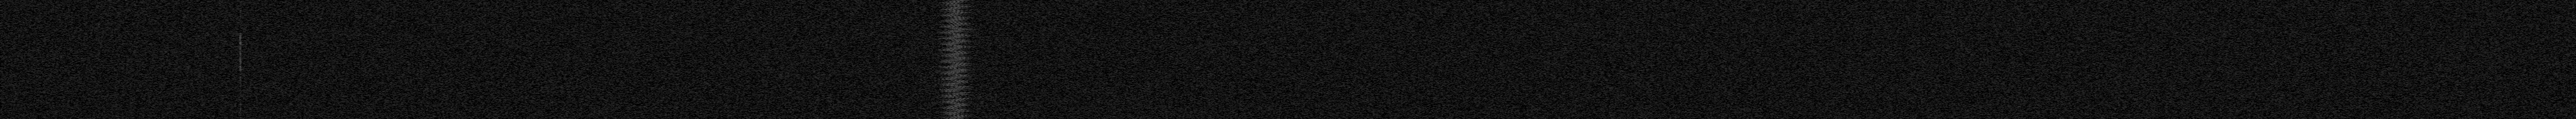wv_lsb: (238, 33, 241, 73), (238, 91, 241, 106), (238, 106, 241, 119), (238, 73, 241, 85), (238, 10, 241, 21), (238, 86, 241, 91), (240, 21, 241, 24), (240, 5, 241, 8)
wv_usb: (97, 23, 100, 33), (97, 34, 100, 37), (97, 108, 100, 111), (99, 46, 100, 47), (99, 37, 100, 39)
wv_wbfm: (935, 0, 977, 119)
